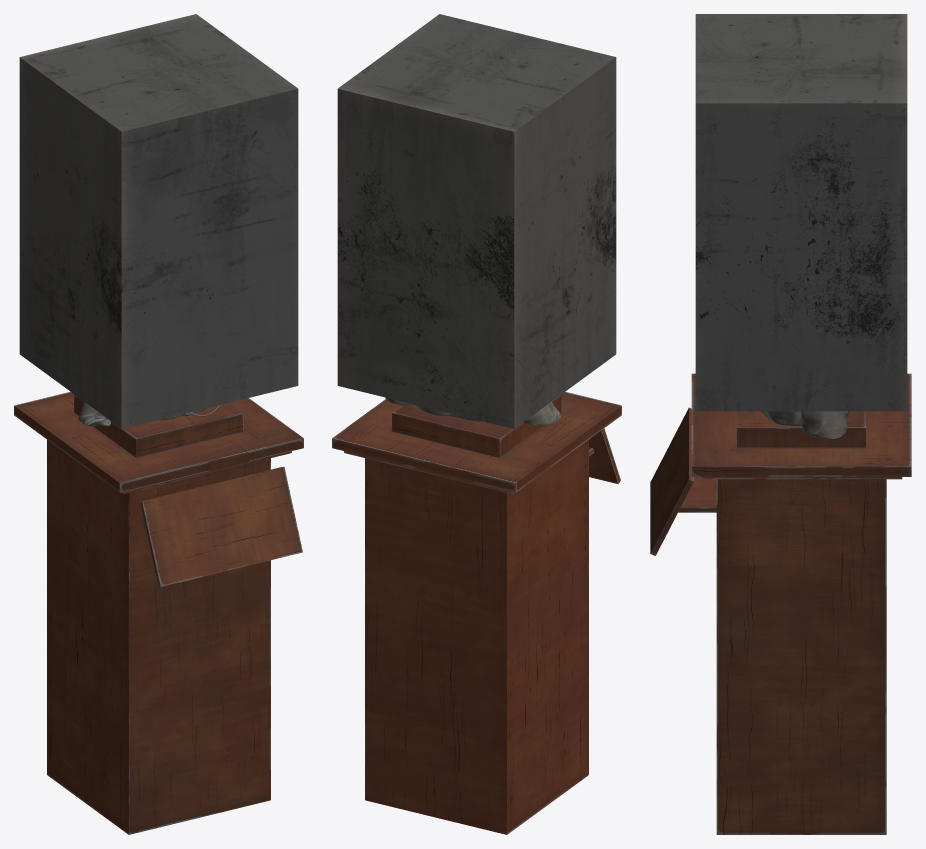
File: pak caraka.fbx
3 renders of one model, left to right at view 1: azimuth 30°, elevation 25°; view 2: azimuth 150°, elevation 25°; view 3: azimuth 270°, elevation 25°, orthographic. The views are drawn at different scales.
Visible parts, largest first — view 1: Vitrine Glass.001, Vitrine Box.001, base; view 2: Vitrine Glass.001, Vitrine Box.001, base; view 3: Vitrine Glass.001, Vitrine Box.001, base.
Part boxes in pixels (x1,y1,x2,y2): Vitrine Glass.001: (19,14,298,428); Vitrine Box.001: (14,391,303,834); base: (78,401,219,426); Vitrine Glass.001: (337,14,616,428); Vitrine Box.001: (332,391,621,834); base: (385,397,560,425); Vitrine Glass.001: (695,14,907,411); Vitrine Box.001: (650,373,911,834); base: (747,411,849,438).
Bounding box in the file's own units: 0.554 × 0.6576 × 2.06.
4 materials, 4 textured.
